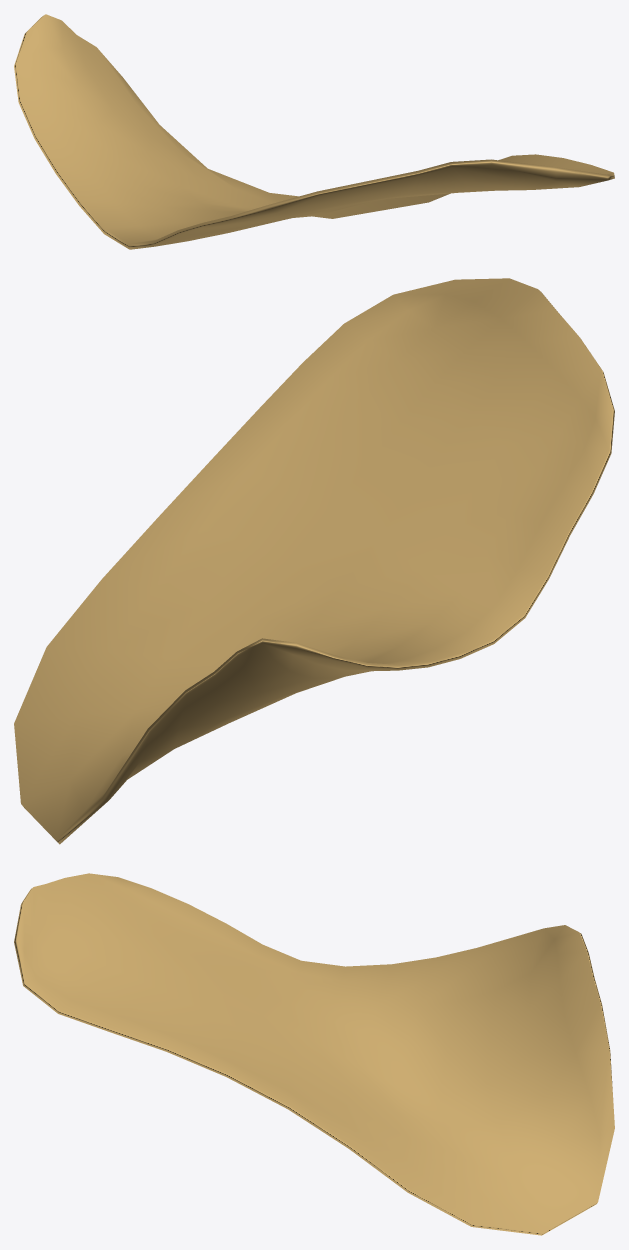
3 views of the same model, one above another, from view 1: azimuth 30°, elevation 25°; view 2: azimuth 150°, elevation 25°; view 3: azimuth 270°, elevation 25° (orthographic). The views are drawn at different scales.
Parts seen in each view (by area): view 1: 左侧骶髂前韧带; view 2: 左侧骶髂前韧带; view 3: 左侧骶髂前韧带.
Boxes of the visible parts, x1,y1,x2,y2 form: 左侧骶髂前韧带: [14, 14, 614, 249]; 左侧骶髂前韧带: [14, 278, 614, 844]; 左侧骶髂前韧带: [14, 873, 614, 1235].
Size of the model in its own units: 0.0592 by 0.0464 by 0.0933.
